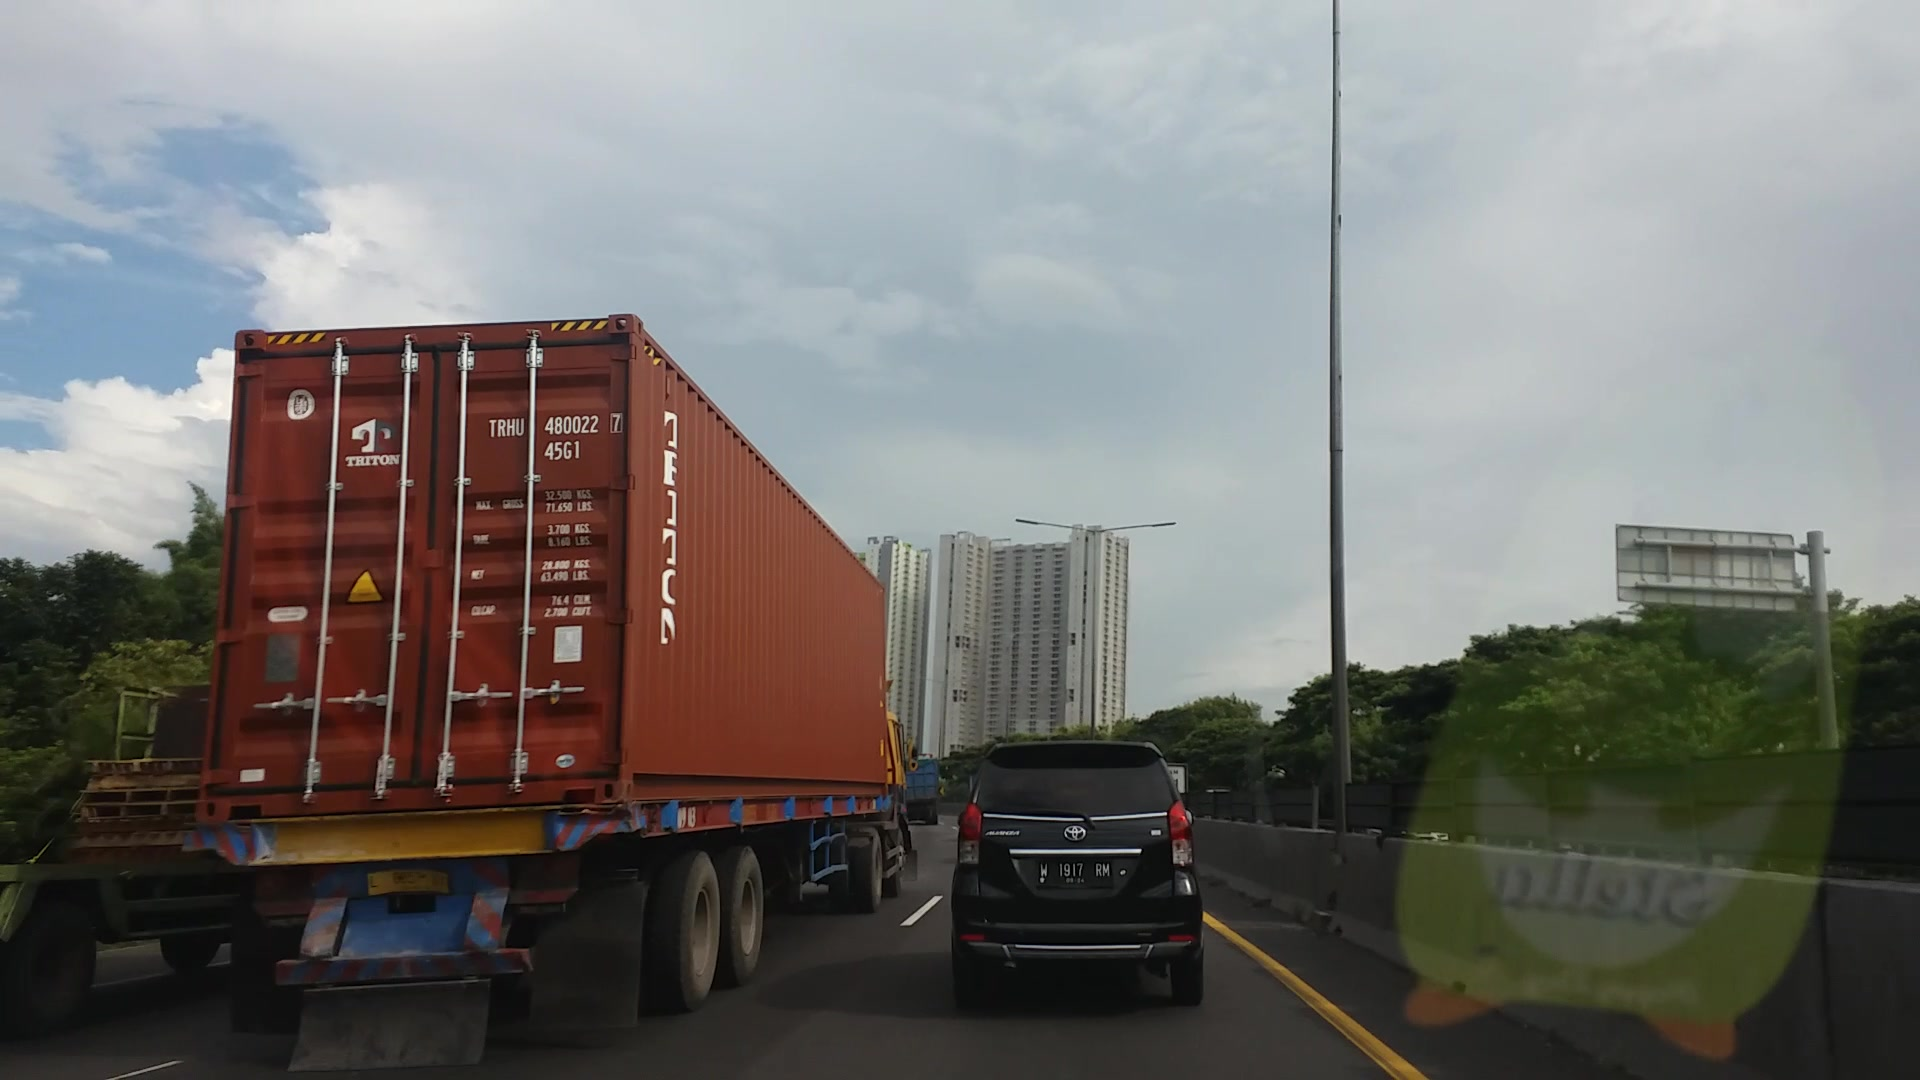plate_positive: (1035, 858, 1113, 889)
